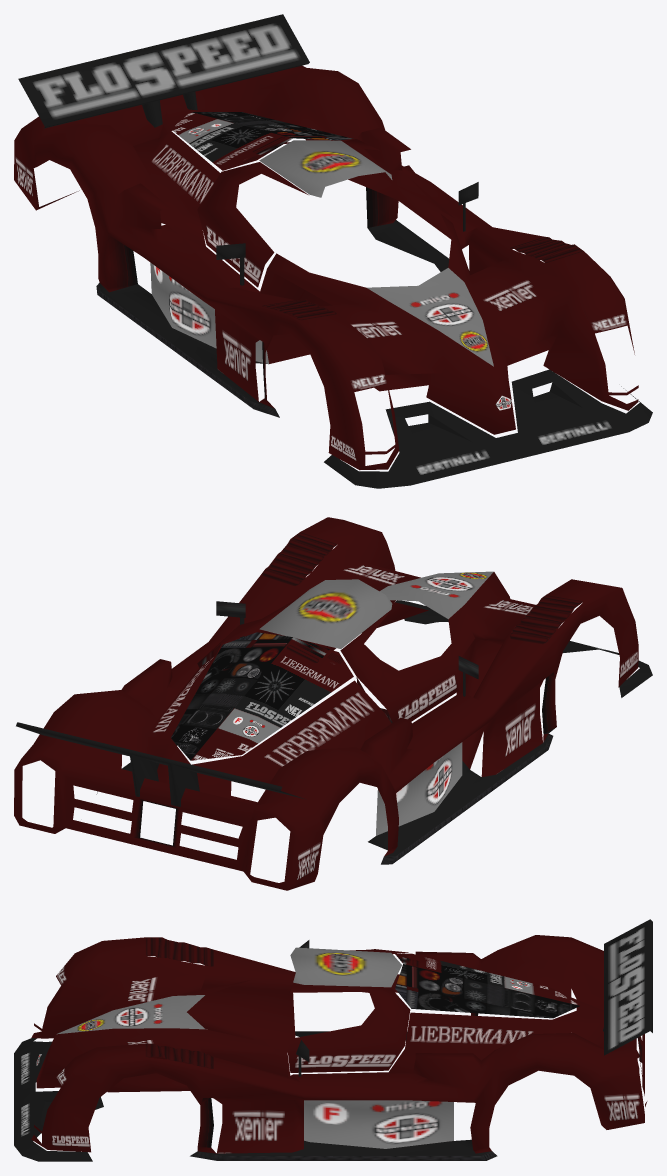
Rendered from car-SUPR_Car5.glb.
The picture shows the model from 3 angles, top to bottom: view 1: azimuth 30°, elevation 25°; view 2: azimuth 150°, elevation 25°; view 3: azimuth 270°, elevation 25°; orthographic projection. The views are drawn at different scales.
Parts seen in each view (by area): view 1: SUPR_Car5; view 2: SUPR_Car5; view 3: SUPR_Car5.
Boxes of the visible parts, x1=… form: SUPR_Car5: x1=14, y1=14, x2=652, y2=488; SUPR_Car5: x1=14, y1=517, x2=652, y2=890; SUPR_Car5: x1=14, y1=919, x2=652, y2=1161.
Bounding box in the file's own units: 2 × 1.06 × 4.29.
6 materials, 6 textured.
